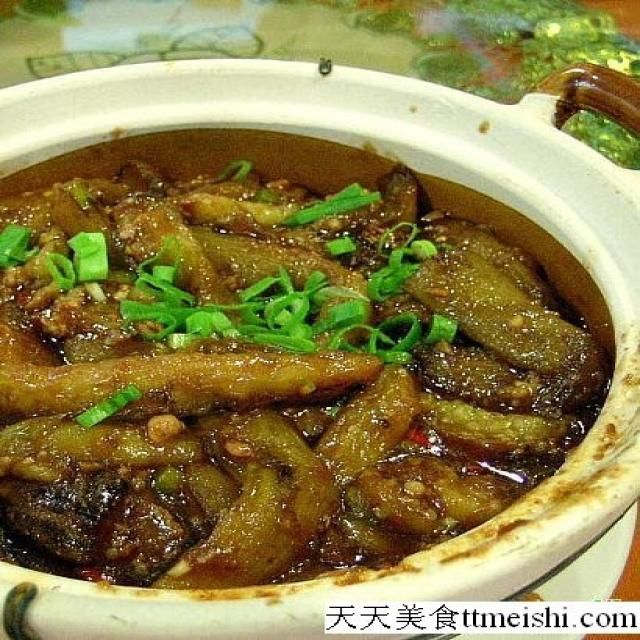鸡蛋料理: (10, 52, 608, 610)
